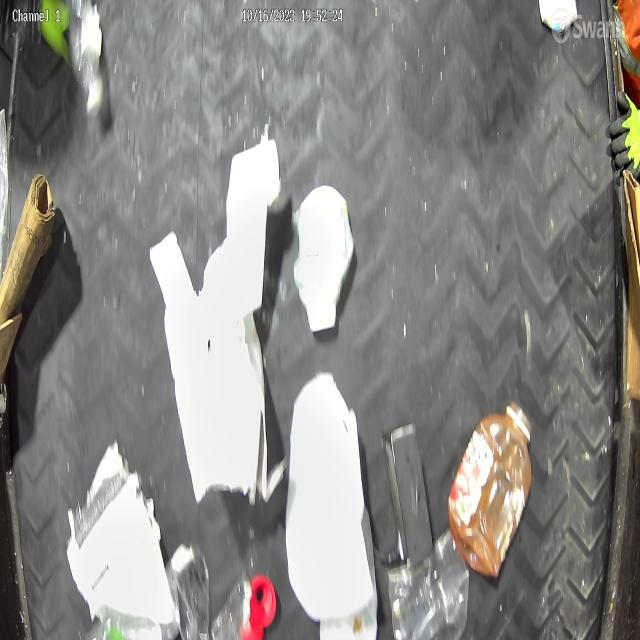milk_jug: (287, 369, 380, 622), (290, 184, 354, 341)
plastic_bottle: (451, 396, 530, 575), (66, 3, 110, 126)
